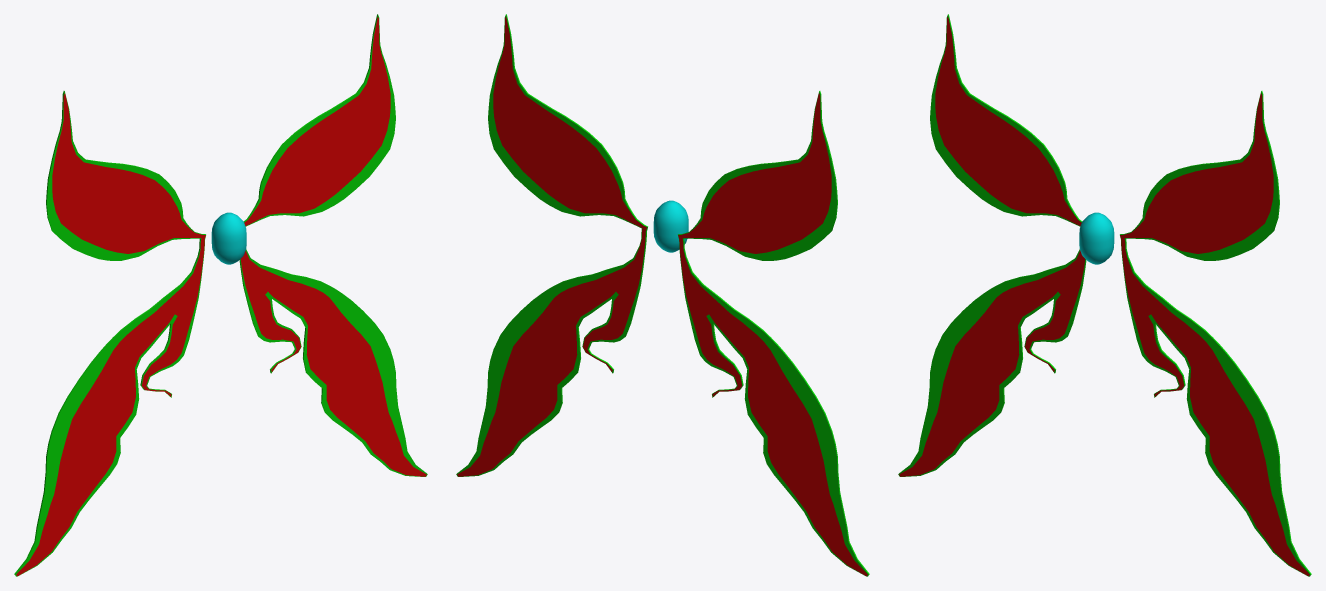
File: sprinkle_sprites_NEW.fbx
3 views of the same model, side by side, from view 1: azimuth 30°, elevation 25°; view 2: azimuth 150°, elevation 25°; view 3: azimuth 330°, elevation 25° (orthographic).
Visible parts, largest first — view 1: pixie; view 2: pixie; view 3: pixie.
Boxes of the visible parts, x1,y1,x2,y2 form: pixie: [14, 14, 427, 576]; pixie: [456, 14, 869, 576]; pixie: [898, 14, 1311, 576].
Bounding box in the file's own units: 418 × 458 × 30.87.
